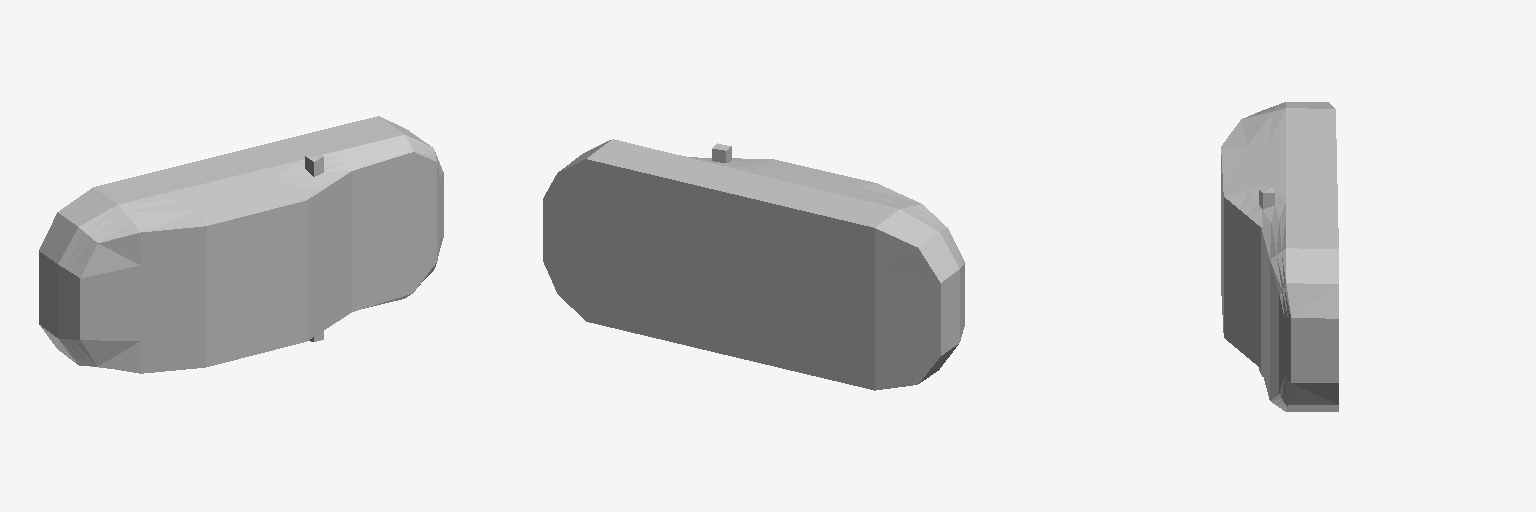
The model's file is audi_chassis_col.obj.
The picture shows the model from 3 angles: view 1: azimuth 30°, elevation 25°; view 2: azimuth 150°, elevation 25°; view 3: azimuth 270°, elevation 25°; orthographic projection.
Parts seen in each view (by area): view 1: Audi_Collision_0502.001; view 2: Audi_Collision_0502.001; view 3: Audi_Collision_0502.001.
Boxes of the visible parts, box(x1,y1,x2,y2) form: Audi_Collision_0502.001: box(39, 116, 443, 373); Audi_Collision_0502.001: box(543, 139, 964, 390); Audi_Collision_0502.001: box(1221, 102, 1338, 411).
Size of the model in its own units: 4.88 by 2.19 by 1.28.